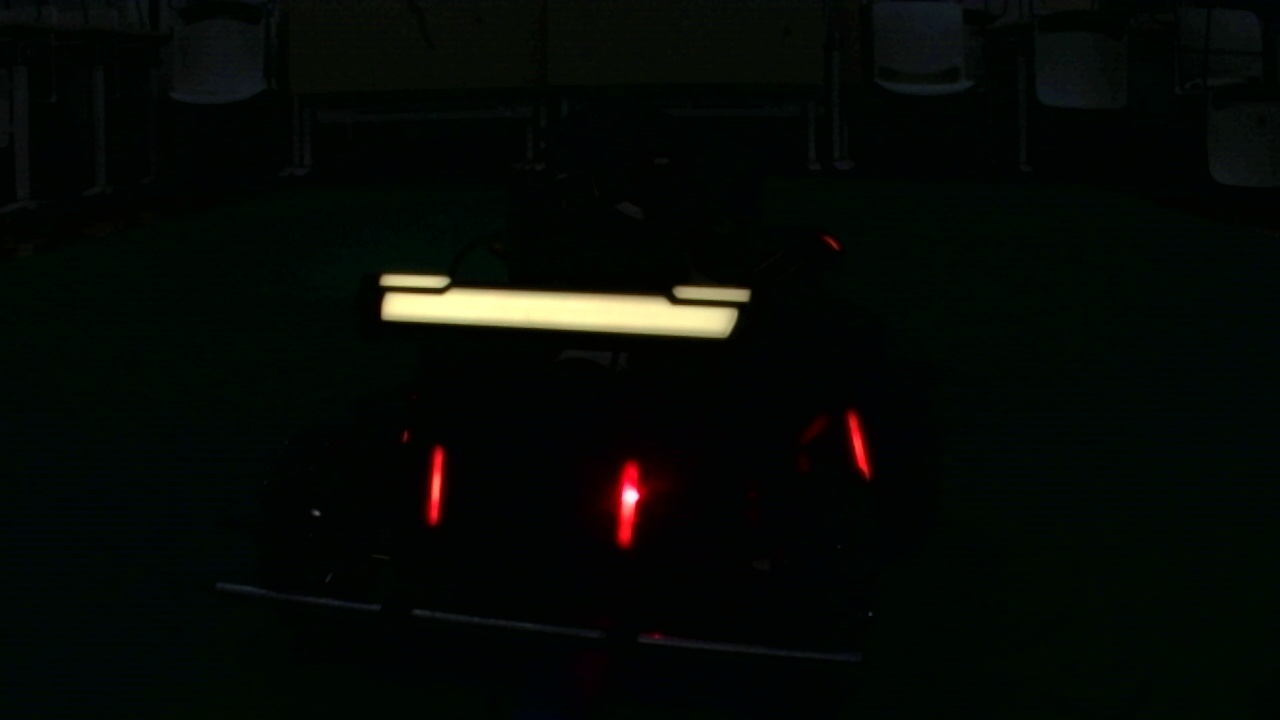lamp: (615, 455, 647, 546), (423, 443, 445, 529), (843, 408, 868, 478)
notpair1: (618, 408, 870, 548)
pair1: (425, 443, 647, 547)
